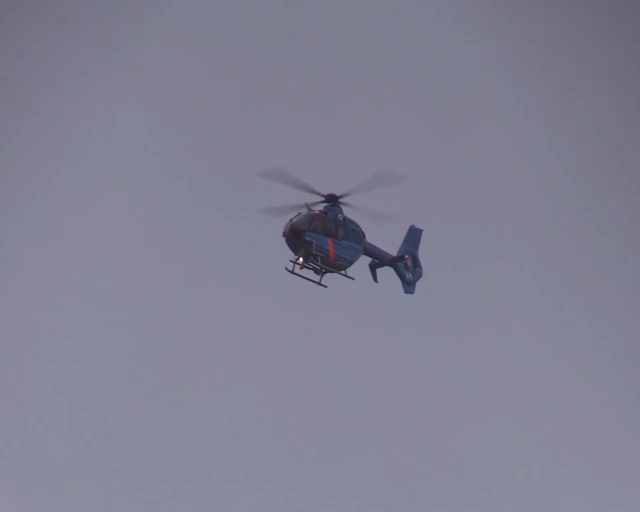HELICOPTER: (255, 164, 425, 293)
